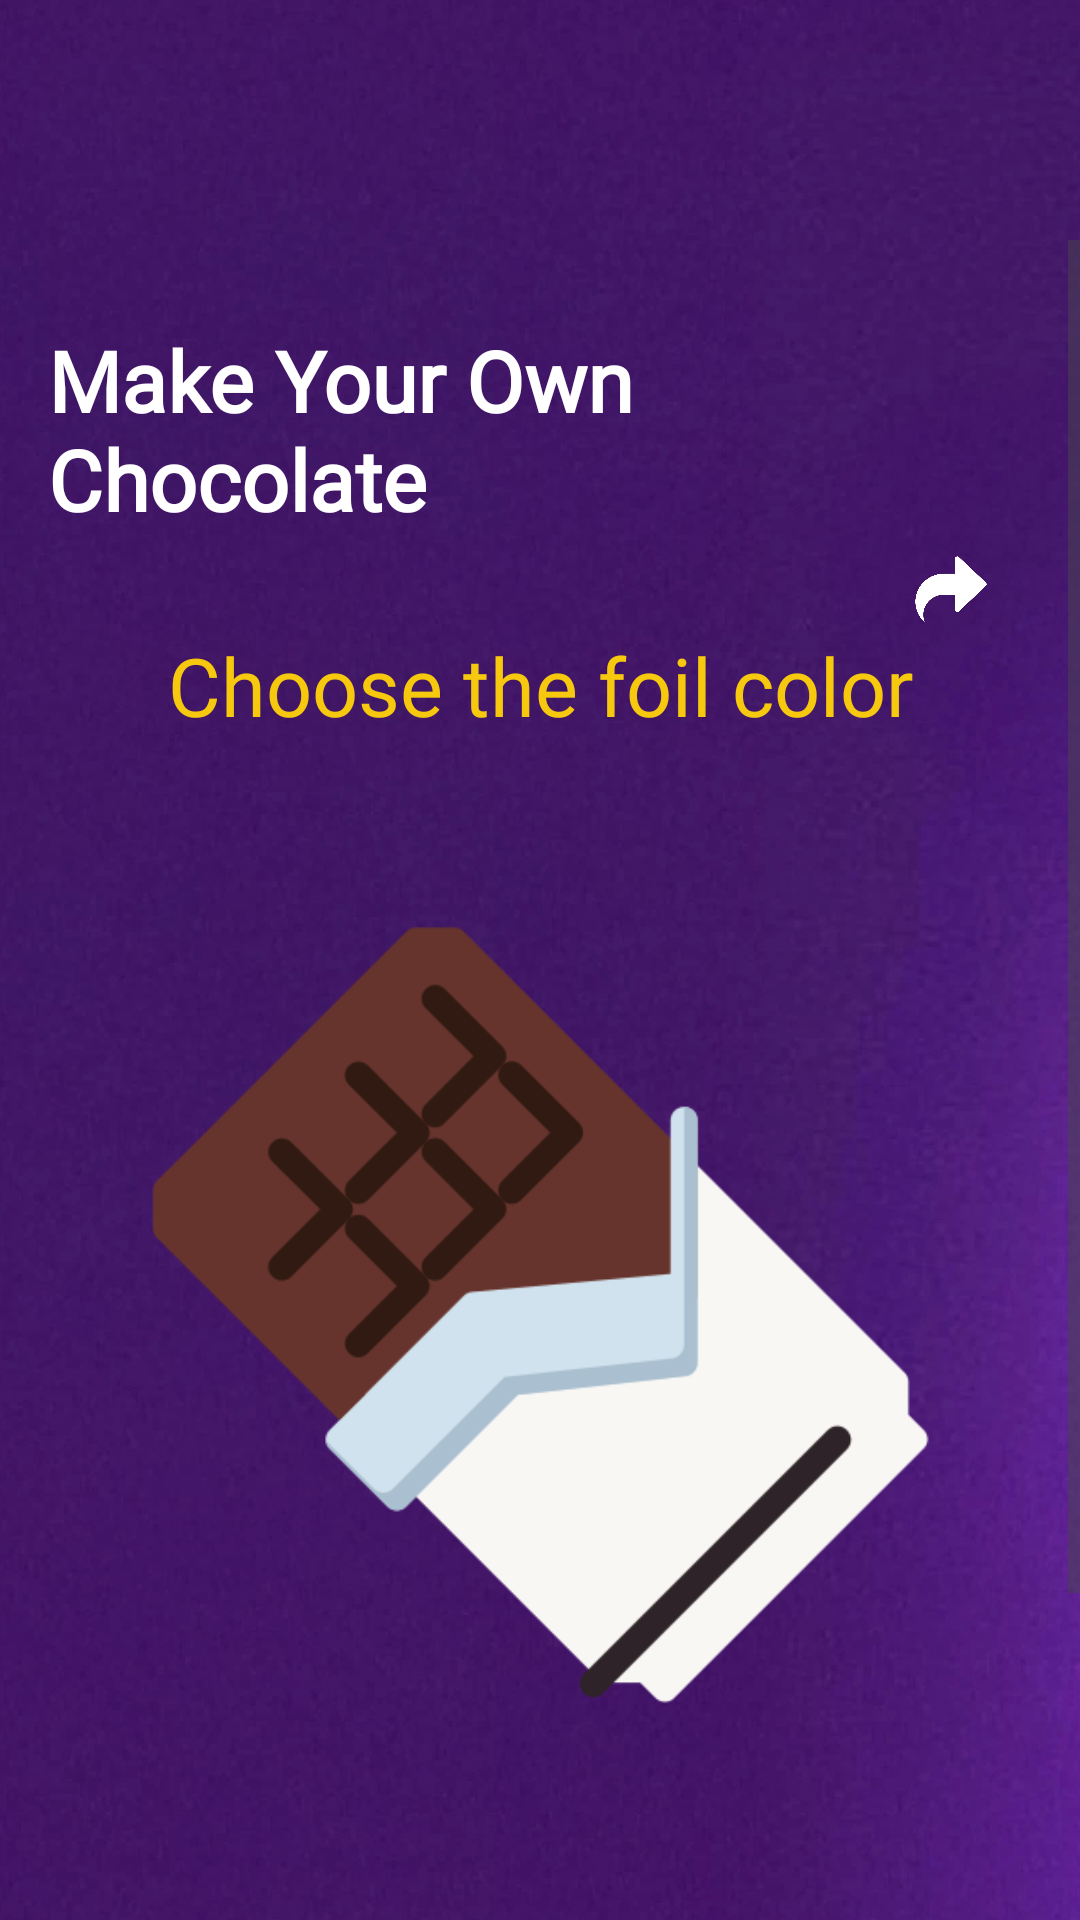

Point at icon controls on the screen. Image size 1080 x 1920, points as (x=x, y=y).
Next: (x=951, y=589)
